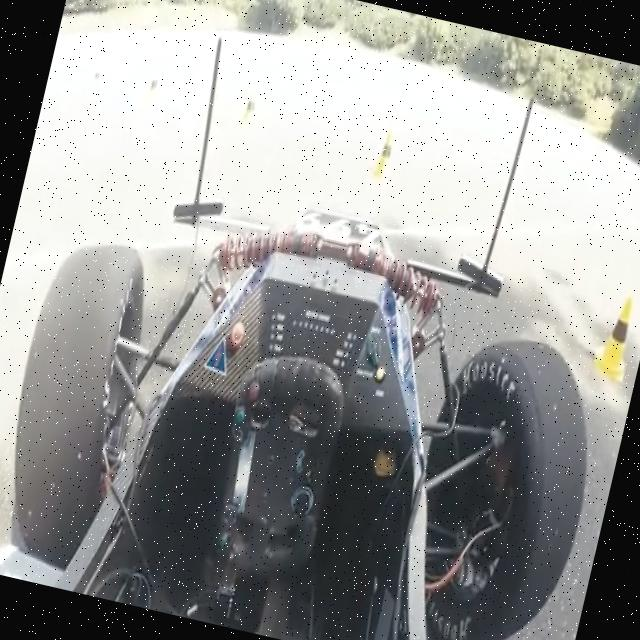yellow_cone: (587, 287, 640, 384), (365, 121, 401, 186), (236, 89, 265, 138), (140, 74, 168, 118), (82, 66, 104, 106)
